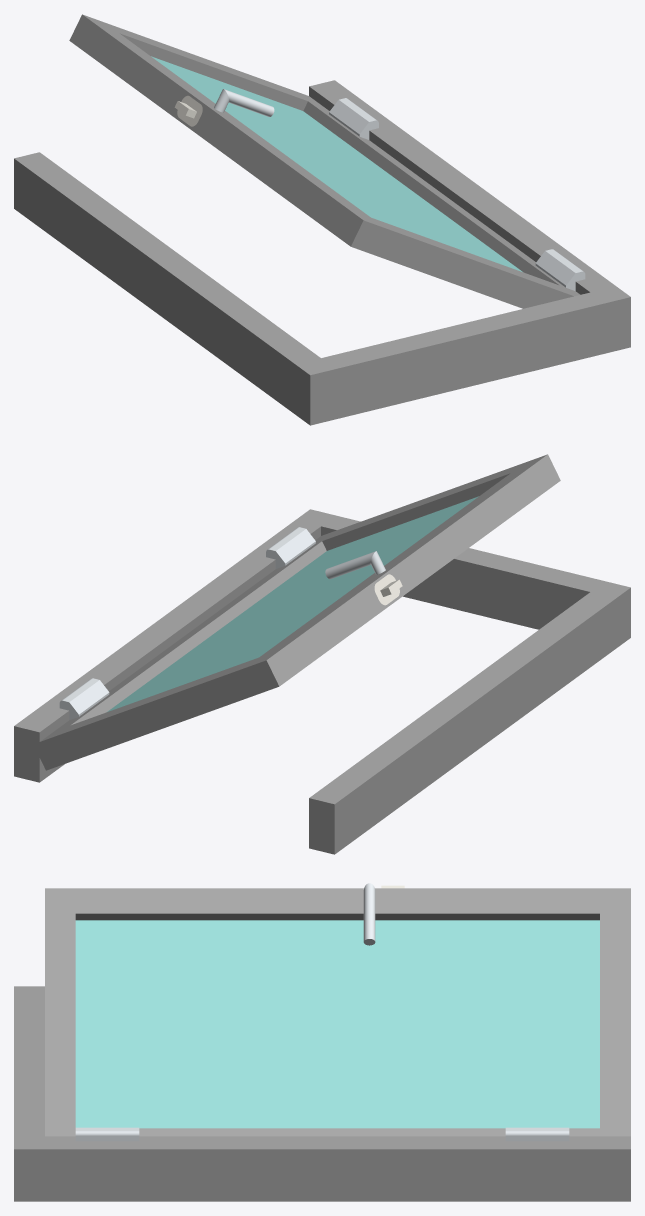
Rendered from tech_door.gltf.
3 views of the same model, one above another, from view 1: azimuth 30°, elevation 25°; view 2: azimuth 150°, elevation 25°; view 3: azimuth 270°, elevation 25° (orthographic). The views are drawn at different scales.
Parts seen in each view (by area): view 1: Part 12, Part 13, Part 14, Part 19, Part 18, Part 15; view 2: Part 12, Part 13, Part 14, Part 18, Part 19, Part 15; view 3: Part 14, Part 12, Part 13, Part 19, Part 18, Part 15.
Boxes of the visible parts, x1,y1,x2,y2 form: Part 12: (14, 80, 630, 425); Part 13: (69, 14, 580, 308); Part 14: (151, 56, 522, 271); Part 19: (329, 98, 378, 139); Part 18: (535, 249, 585, 290); Part 15: (214, 89, 274, 116); Part 12: (14, 509, 630, 854); Part 13: (33, 454, 560, 770); Part 14: (107, 496, 478, 711); Part 18: (266, 527, 315, 568); Part 19: (59, 678, 109, 719); Part 15: (325, 551, 385, 579); Part 14: (75, 920, 599, 1128); Part 12: (14, 986, 630, 1201); Part 13: (45, 888, 630, 1136); Part 19: (505, 1127, 569, 1141); Part 18: (75, 1127, 139, 1141); Part 15: (363, 883, 375, 945).
Size of the model in its own units: 0.01 by 0.00568 by 0.016.
